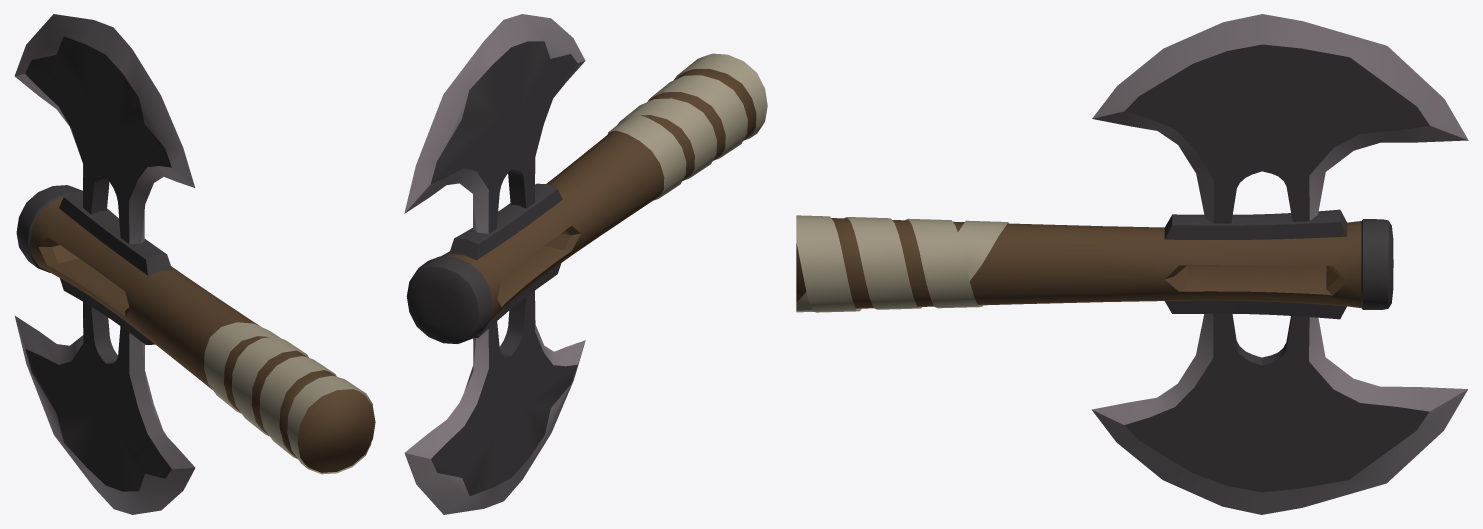
The model's file is axe.glb.
3 renders of one model, left to right at view 1: azimuth 30°, elevation 25°; view 2: azimuth 150°, elevation 25°; view 3: azimuth 270°, elevation 25°, orthographic. The views are drawn at different scales.
Visible parts, largest first — view 1: Baked_Weapon_DoubleAxe; view 2: Baked_Weapon_DoubleAxe; view 3: Baked_Weapon_DoubleAxe.
Boxes of the visible parts, x1,y1,x2,y2 form: Baked_Weapon_DoubleAxe: [14, 14, 375, 514]; Baked_Weapon_DoubleAxe: [404, 14, 767, 514]; Baked_Weapon_DoubleAxe: [796, 14, 1468, 514].
Size of the model in its own units: 0.1059 by 0.605 by 0.736.
1 material, 1 textured.
